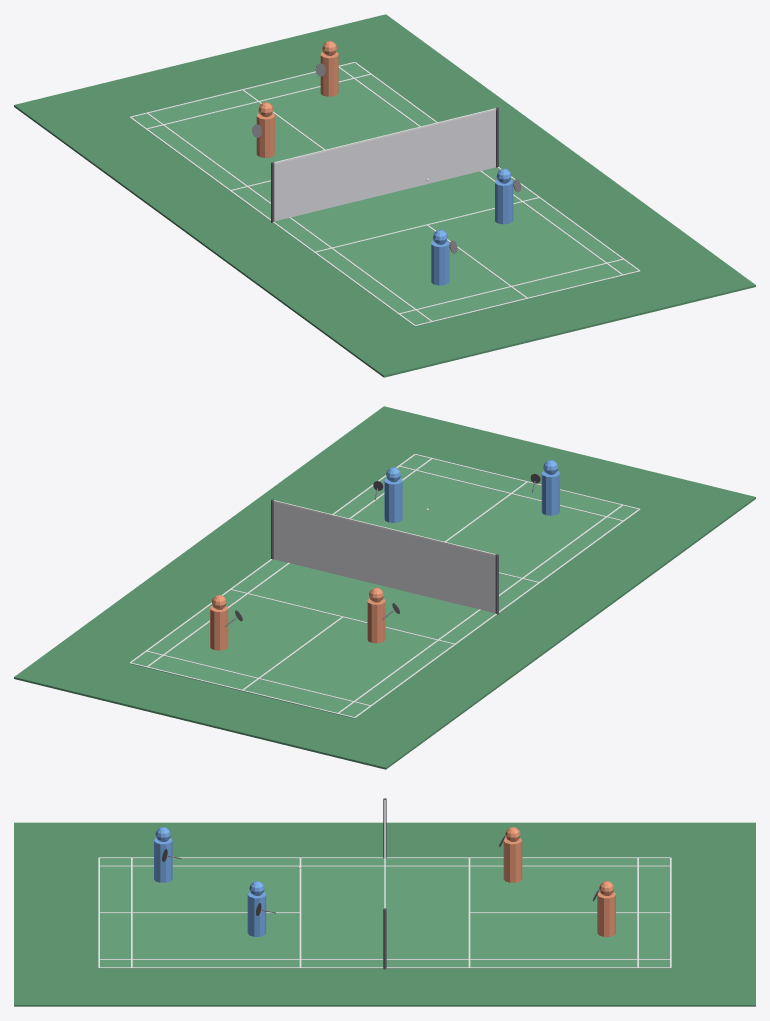
The model's file is court.glb.
3 renders of one model, top to bottom at view 1: azimuth 30°, elevation 25°; view 2: azimuth 150°, elevation 25°; view 3: azimuth 270°, elevation 25°, orthographic.
Visible parts, largest first — view 1: Floor, CourtSurface, Net, Player_A_Back_Body, Player_A_Front_Body, Player_B_Back_Body, Player_B_Front_Body, Line_Side_Neg, Line_Singles_Neg, NetTape; view 2: Floor, CourtSurface, Net, Player_A_Back_Body, Player_A_Front_Body, Player_B_Front_Body, Player_B_Back_Body, Line_Side_Neg, Line_Singles_Neg, NetTape; view 3: Floor, CourtSurface, Line_Side_Pos, Line_Singles_Neg, Line_Side_Neg, Player_B_Front_Body, Player_B_Back_Body, Player_A_Front_Body, Player_A_Back_Body, Line_Singles_Pos.
Part boxes in pixels (x1,y1,x2,y2): Floor: (14, 14, 755, 377); CourtSurface: (132, 63, 639, 326); Net: (274, 110, 495, 221); Player_A_Back_Body: (431, 240, 449, 285); Player_A_Front_Body: (495, 179, 513, 224); Player_B_Back_Body: (320, 52, 338, 96); Player_B_Front_Body: (256, 113, 274, 157); Line_Side_Neg: (129, 117, 414, 325); Line_Singles_Neg: (146, 113, 431, 321); NetTape: (274, 108, 496, 164); Floor: (14, 406, 755, 769); CourtSurface: (130, 455, 637, 718); Net: (274, 502, 495, 613); Player_A_Back_Body: (541, 471, 559, 515); Player_A_Front_Body: (384, 478, 402, 522); Player_B_Front_Body: (367, 598, 385, 643); Player_B_Back_Body: (210, 606, 228, 650); Line_Side_Neg: (354, 509, 640, 717); Line_Singles_Neg: (338, 505, 622, 713); NetTape: (273, 500, 495, 556); Floor: (14, 822, 755, 1006); CourtSurface: (99, 858, 670, 968); Line_Side_Pos: (99, 967, 670, 968); Line_Singles_Neg: (99, 865, 670, 866); Line_Side_Neg: (99, 857, 670, 858); Player_B_Front_Body: (503, 838, 522, 882); Player_B_Back_Body: (597, 892, 615, 936); Player_A_Front_Body: (247, 892, 266, 936); Player_A_Back_Body: (154, 838, 172, 882); Line_Singles_Pos: (99, 959, 670, 959).
Bounding box in the file's own units: 10.1 × 1.6 × 17.4.
